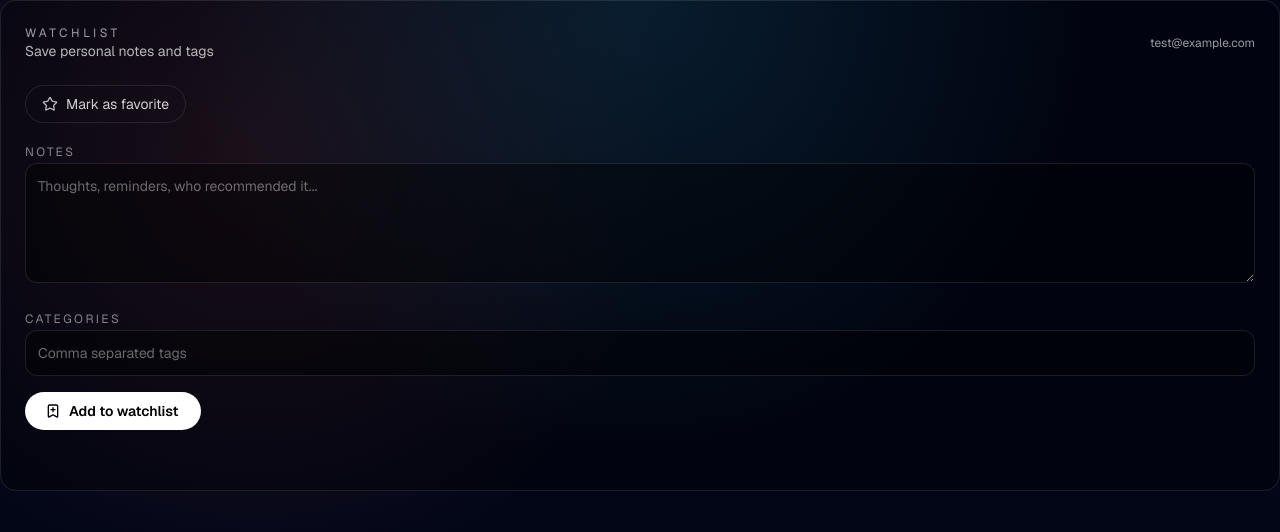
WatchlistPanel › categories parsing › should trim whitespace from categories
Type "  action  ,  comedy  " into the field with placeholder "Comma separated tags" at (640, 353), box x1=25 y1=330 x2=1255 y2=376
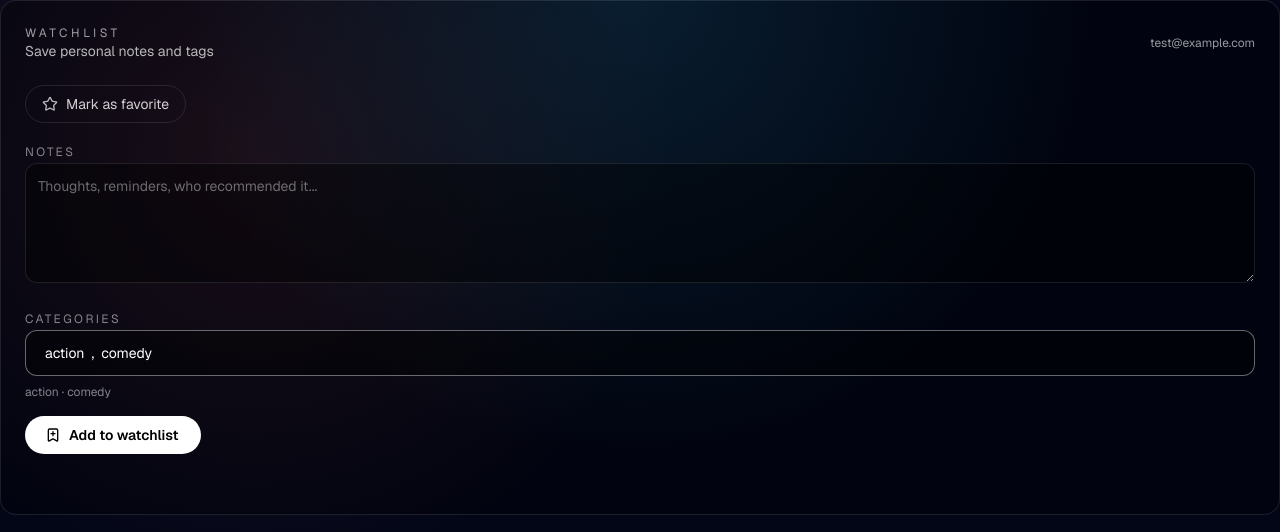
Now the text "action · comedy" is shown, box x1=25 y1=384 x2=111 y2=400
